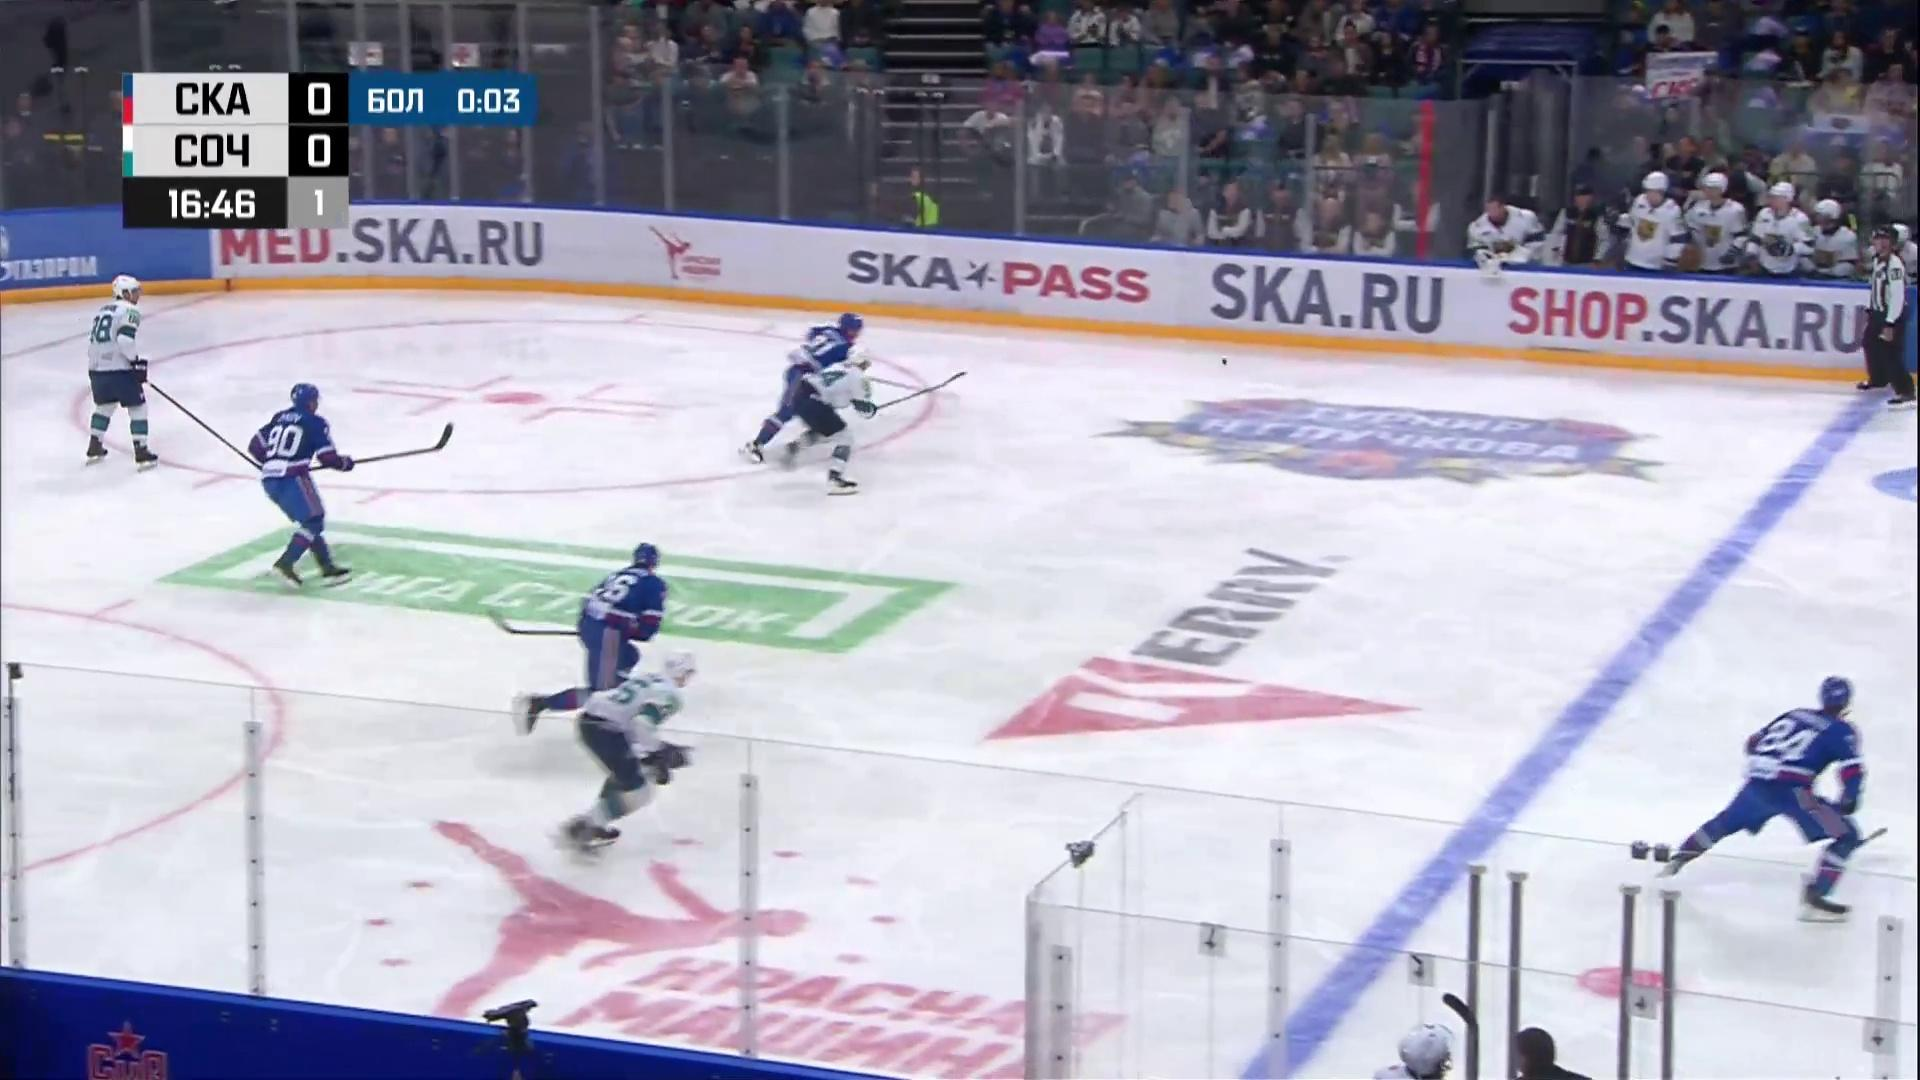ball: (1221, 357, 1228, 367)
